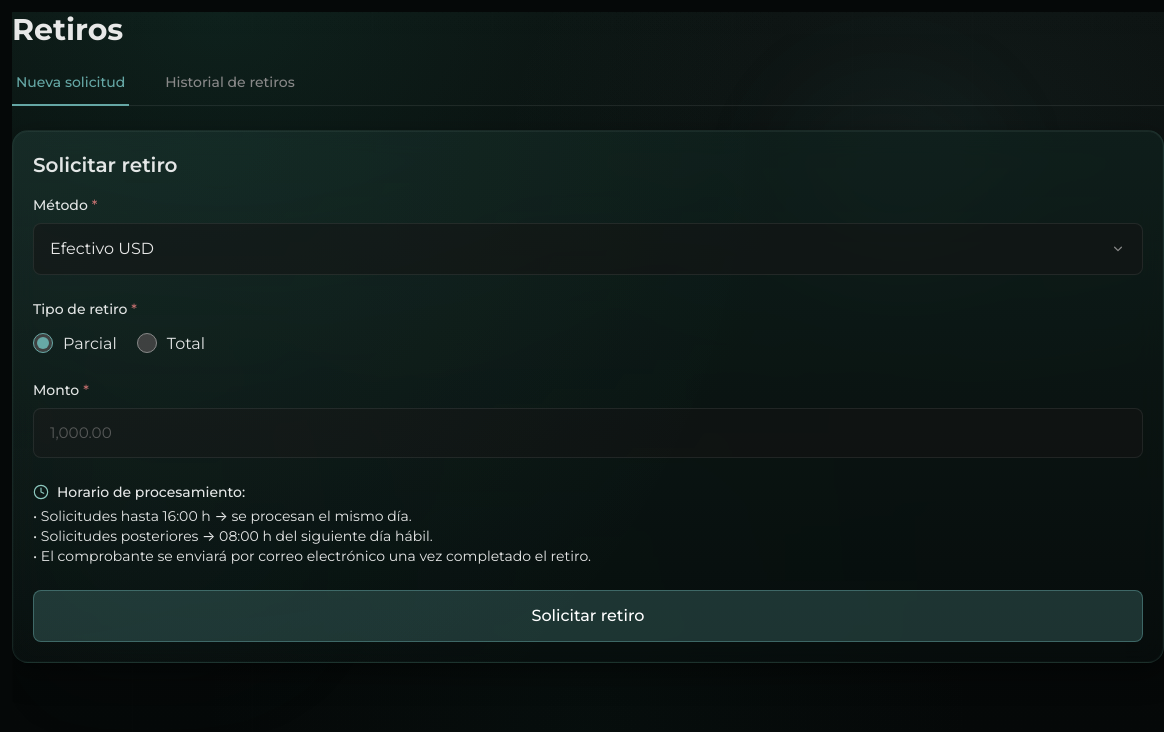
Test: RequestsPage › shows loading spinner when history tab is loading
Step 1. Click the button "Historial de retiros" → click(230, 89), box 161,72 -> 299,106
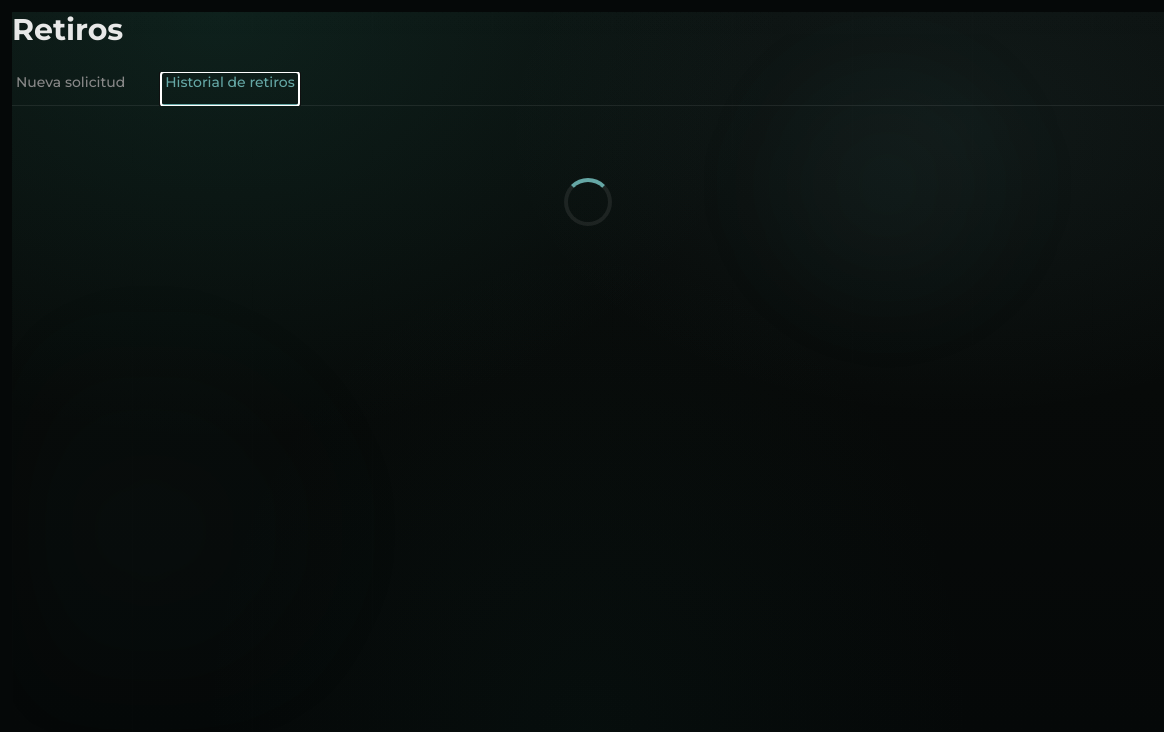
expect the element with class "animate-spin" is shown: met, box 564,178 -> 612,226
